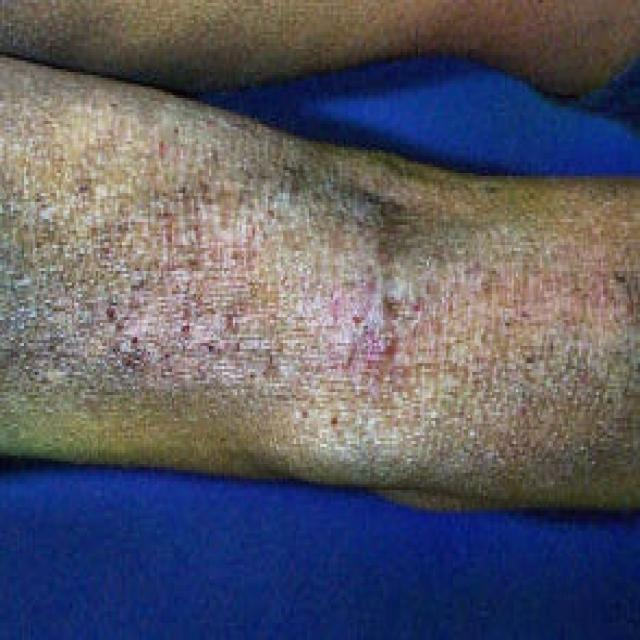Eczema: (33, 128, 640, 499)
